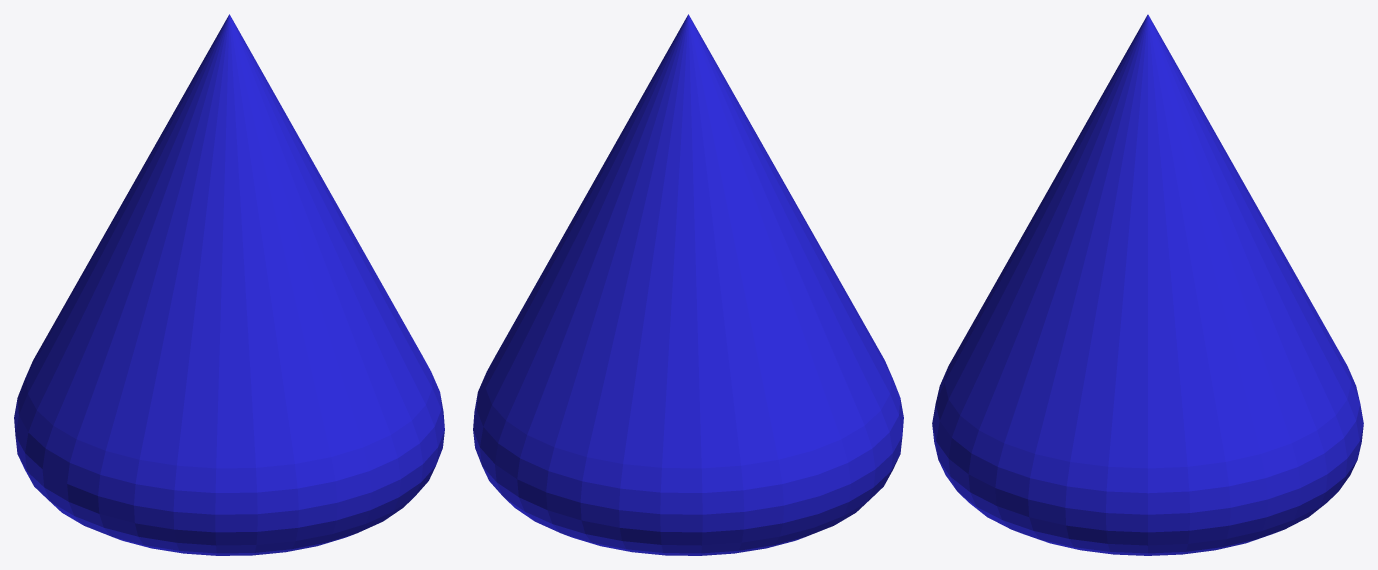
File: foot.dae
3 renders of one model, left to right at view 1: azimuth 30°, elevation 25°; view 2: azimuth 150°, elevation 25°; view 3: azimuth 270°, elevation 25°, orthographic.
Parts seen in each view (by area): view 1: Cone; view 2: Cone; view 3: Cone.
Part boxes in pixels (bbox=[...]): Cone: bbox=[14, 14, 444, 555]; Cone: bbox=[473, 14, 903, 555]; Cone: bbox=[932, 14, 1363, 555].
Bounding box in the file's own units: 0.0475 × 0.0475 × 0.0578.
